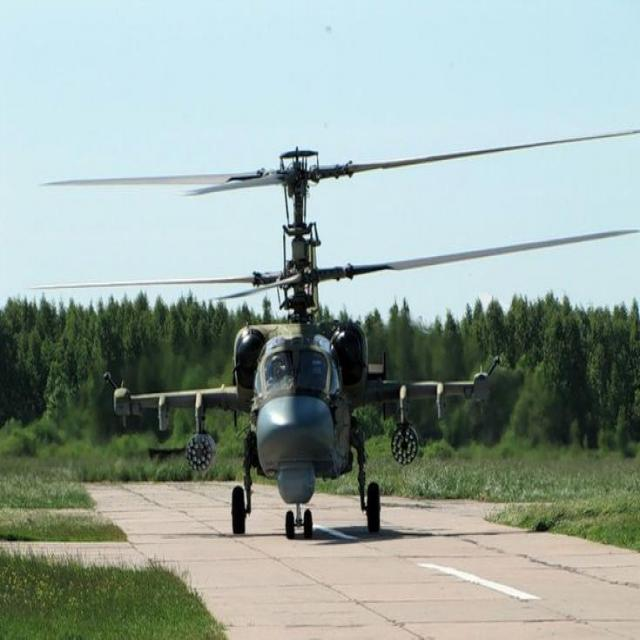MIL_HELO: (18, 124, 640, 551)
